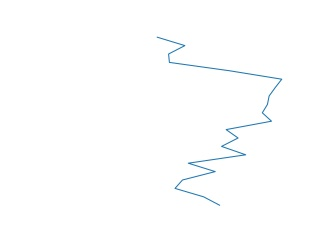floodPlain: (156, 34, 285, 209)
